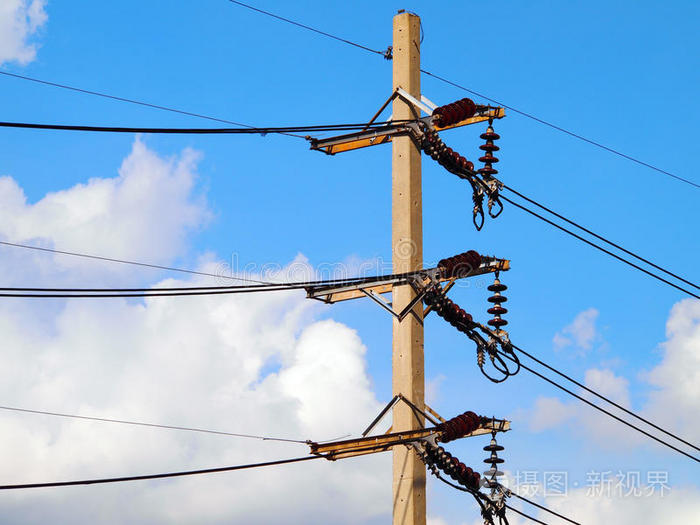insulator: (423, 129, 473, 179), (433, 446, 483, 492), (426, 284, 474, 331), (483, 281, 511, 326), (440, 250, 483, 279), (438, 410, 477, 441), (481, 443, 507, 489), (434, 97, 476, 125), (479, 129, 499, 179)
